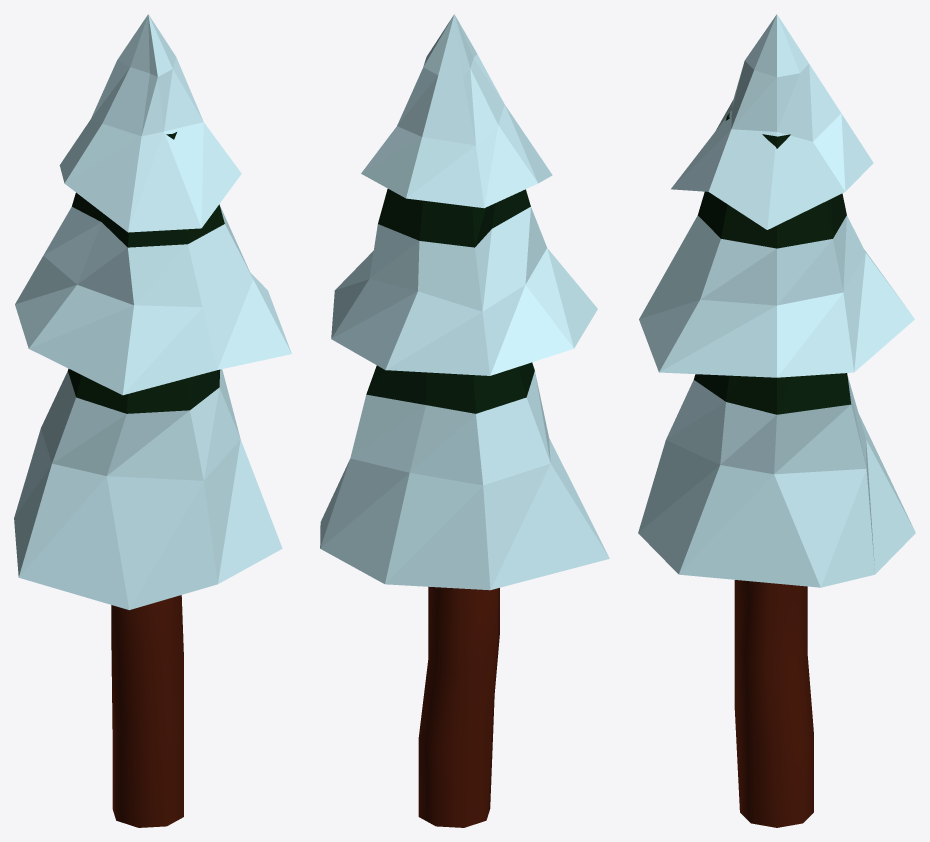
File: tree2.fbx
3 views of the same model, side by side, from view 1: azimuth 30°, elevation 25°; view 2: azimuth 150°, elevation 25°; view 3: azimuth 270°, elevation 25° (orthographic).
Parts seen in each view (by area): view 1: tree2; view 2: tree2; view 3: tree2.
Part boxes in pixels (x1,y1,x2,y2): tree2: (14, 14, 291, 827); tree2: (320, 14, 609, 827); tree2: (638, 14, 915, 827).
Size of the model in its own units: 53.53 by 156 by 49.17.
